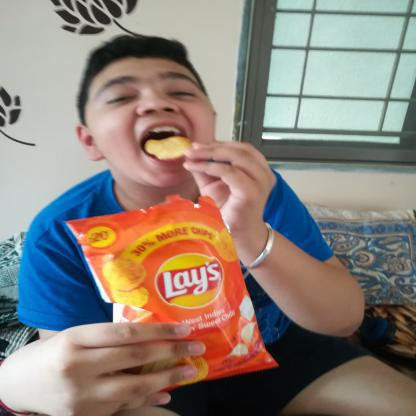hot_and_sweet: (60, 202, 281, 380)
